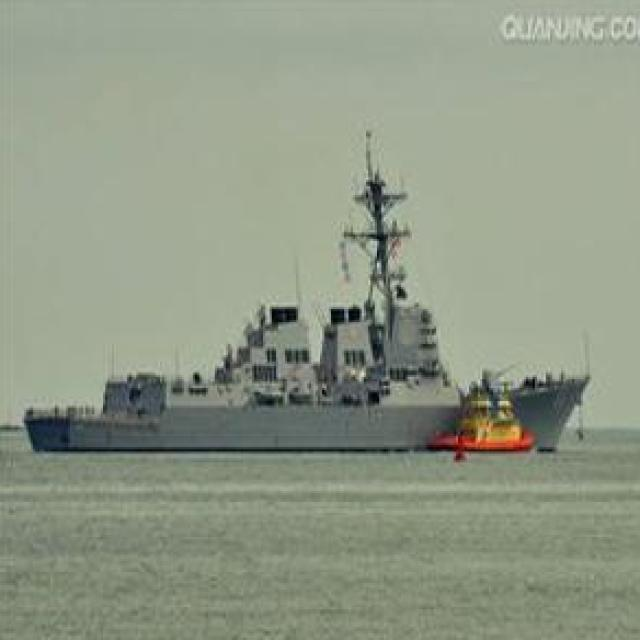navalvessels: (6, 184, 584, 456), (448, 358, 534, 441)
